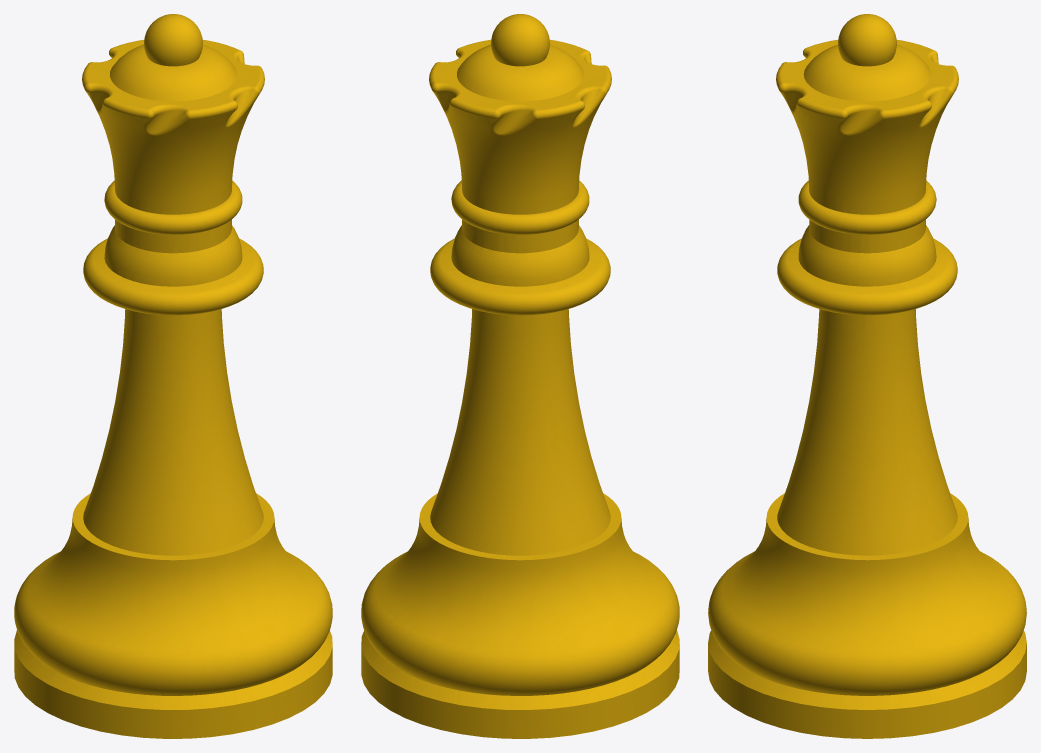
Rendered from Gold-Queen.glb.
The picture shows the model from 3 angles, left to right: view 1: azimuth 30°, elevation 25°; view 2: azimuth 150°, elevation 25°; view 3: azimuth 270°, elevation 25°; orthographic projection.
Parts seen in each view (by area): view 1: Mesh_0; view 2: Mesh_0; view 3: Mesh_0.
Part boxes in pixels (x1,y1,x2,y2): Mesh_0: (14,14,332,738); Mesh_0: (361,14,679,738); Mesh_0: (708,14,1026,738).
Size of the model in its own units: 18.77 by 42.54 by 18.77.
Materials: 1 (1 with a texture image).
